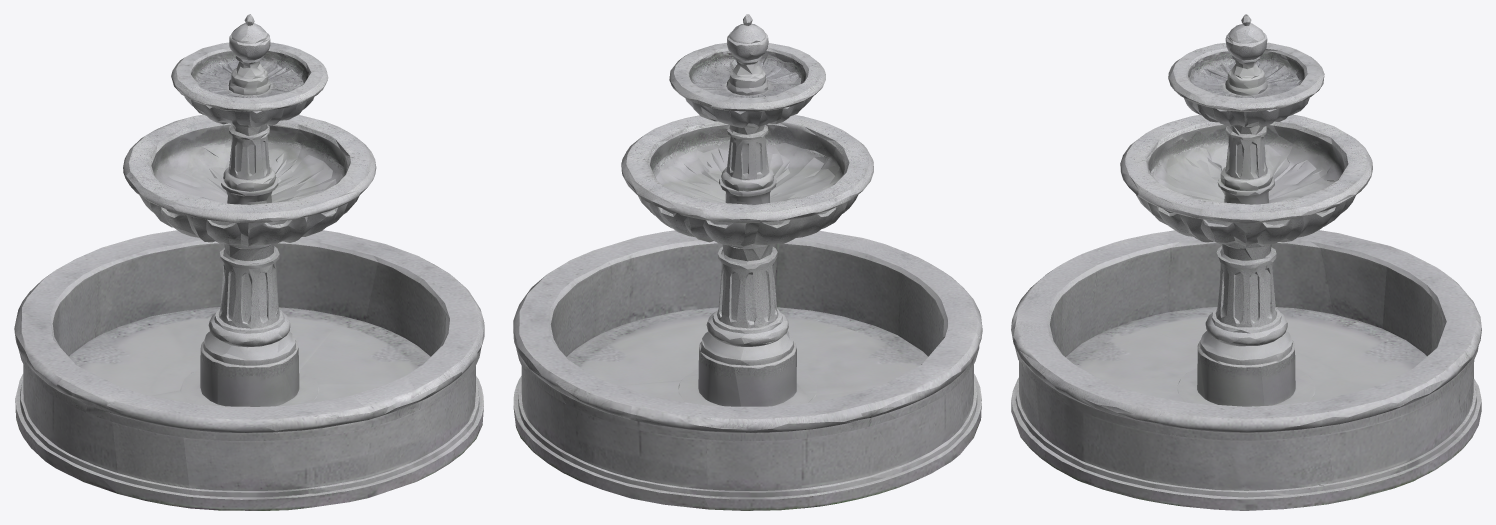
The model's file is chafariz.glb.
3 renders of one model, left to right at view 1: azimuth 30°, elevation 25°; view 2: azimuth 150°, elevation 25°; view 3: azimuth 270°, elevation 25°, orthographic.
Parts seen in each view (by area): view 1: Mesh_0; view 2: Mesh_0; view 3: Mesh_0.
Part boxes in pixels (x1,y1,x2,y2): Mesh_0: (14,14,484,510); Mesh_0: (513,14,982,510); Mesh_0: (1011,14,1481,510).
Size of the model in its own units: 1.9 by 1.77 by 1.9.
1 material, 1 textured.
